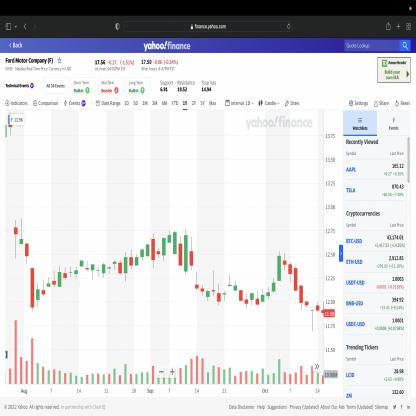Bearish: Evening Star Doji: (205, 267, 222, 311)
Bullish: Engulfing: (178, 225, 188, 279)
